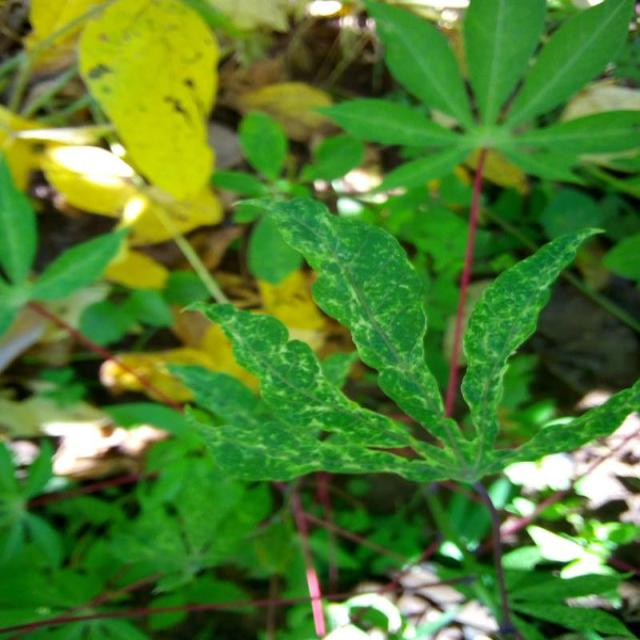cassava leaf: (238, 193, 454, 451), (459, 224, 606, 455), (76, 0, 222, 206)
